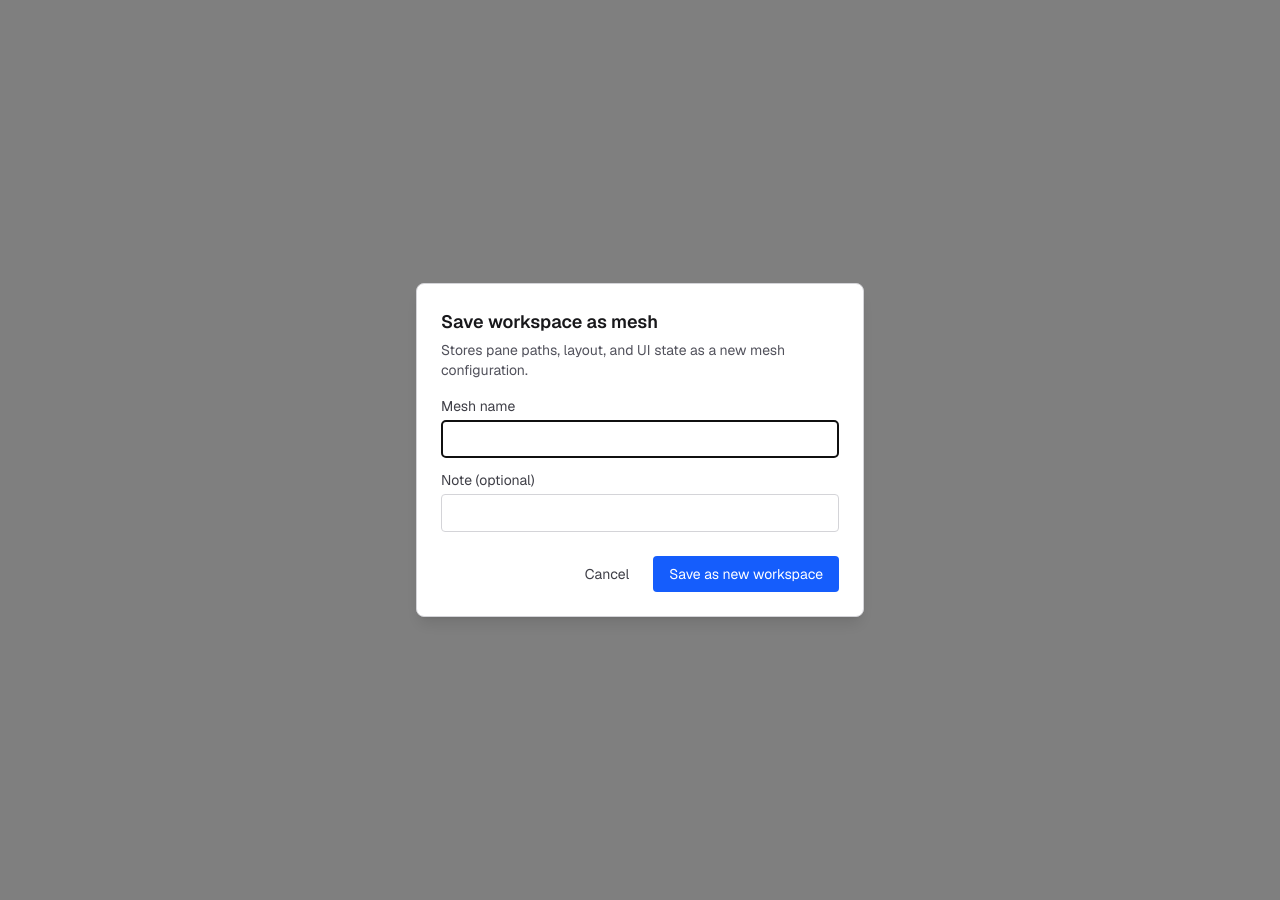
Test: SaveWorkspaceMeshDialog STORE_FROM_WORKSPACE_UI [REQ-WORKSPACE_MESH_BRIDGE] [IMPL-WORKSPACE_MESH_BRIDGE] › STORE_FROM_WORKSPACE_UI_requires_mesh_name_before_save
The image size is (1280, 900).
Click the button with test id "save-workspace-mesh-submit" at (746, 574), box [653,556,839,592]
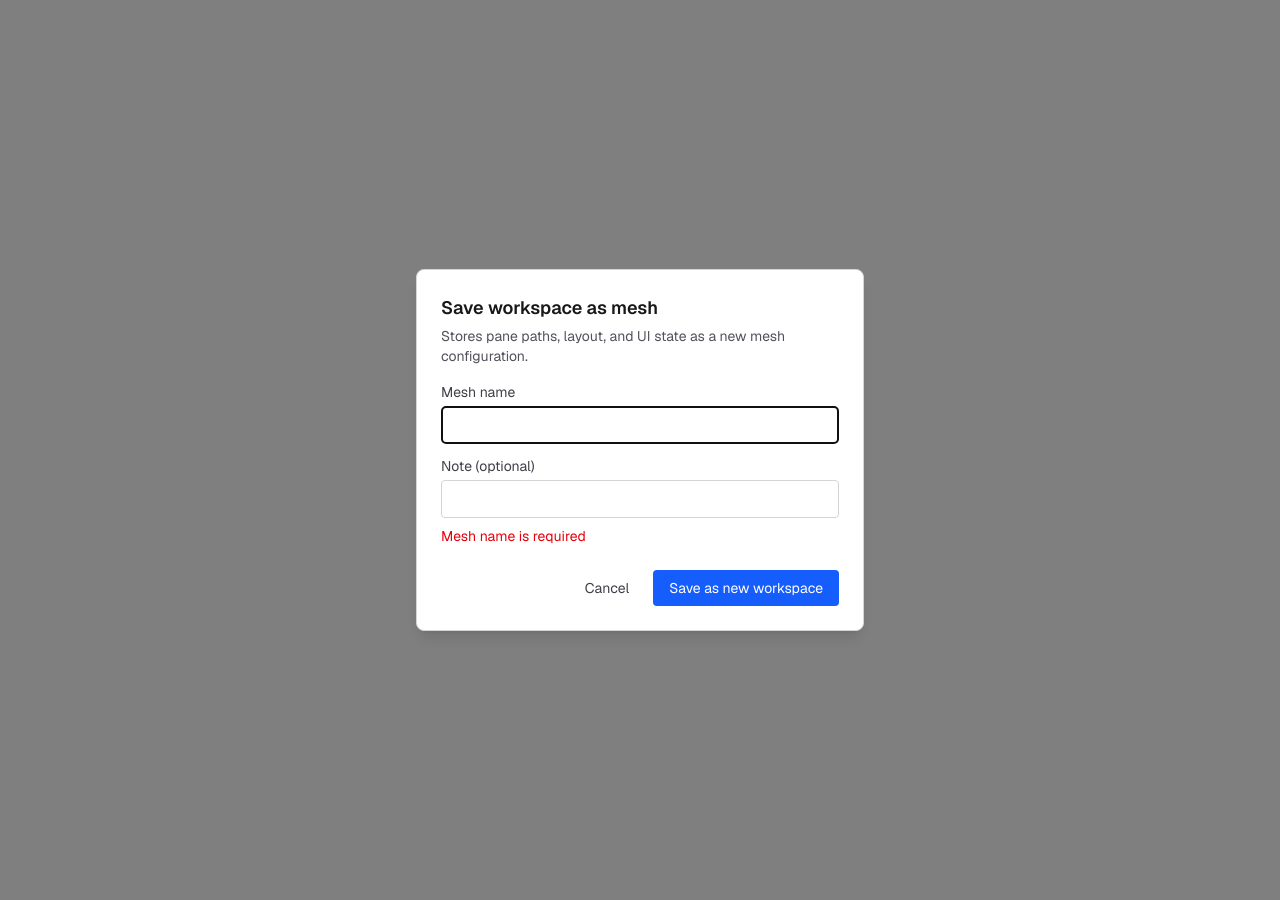
Expected: the text with test id "save-workspace-mesh-error" reads "Mesh name is required", [441,527,586,545]
